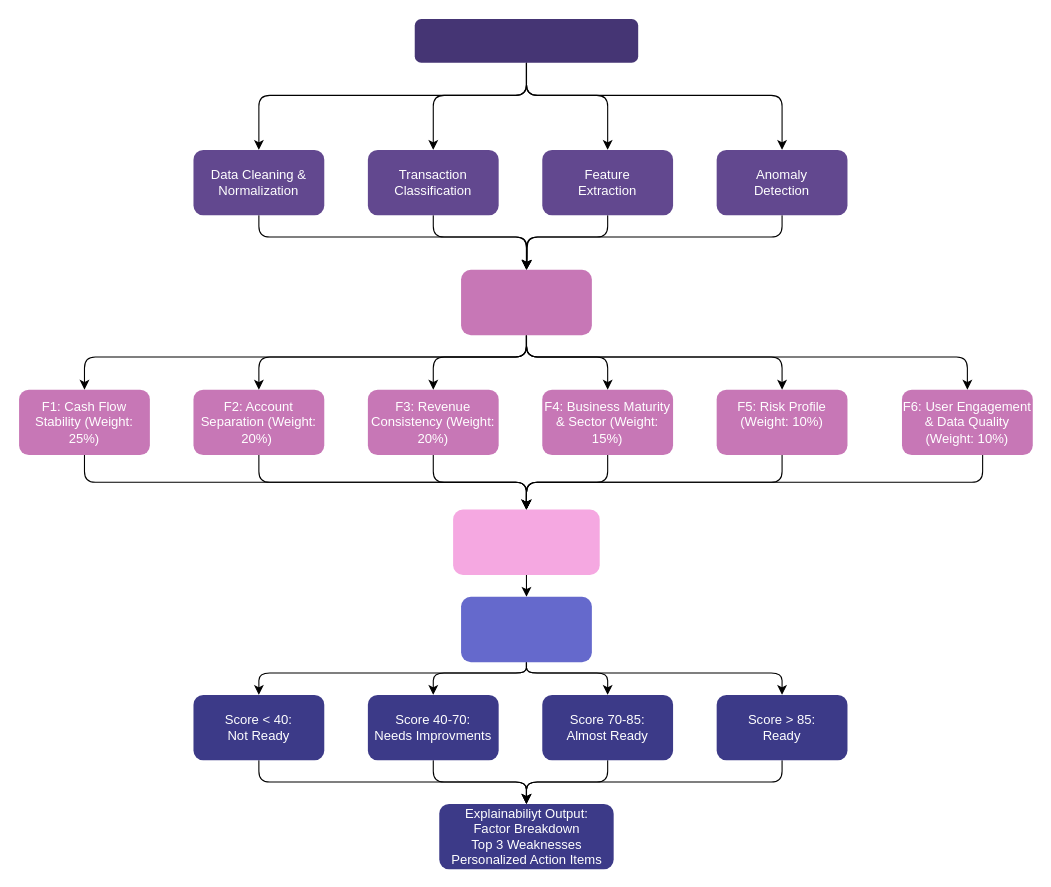
This 1051x887 diagram has some shape labels left out. The shapes that lost their labels are listed below. From the top down, each one's box as (x1, y1, x2, y2) in pixels, then its label:
(414, 19, 638, 62): INPUT DATA
(461, 269, 591, 335): Factor Calculation
(453, 509, 599, 574): Scoring Formula Score = Σ (Factor × Weight)
(461, 596, 591, 662): Decision Engine
